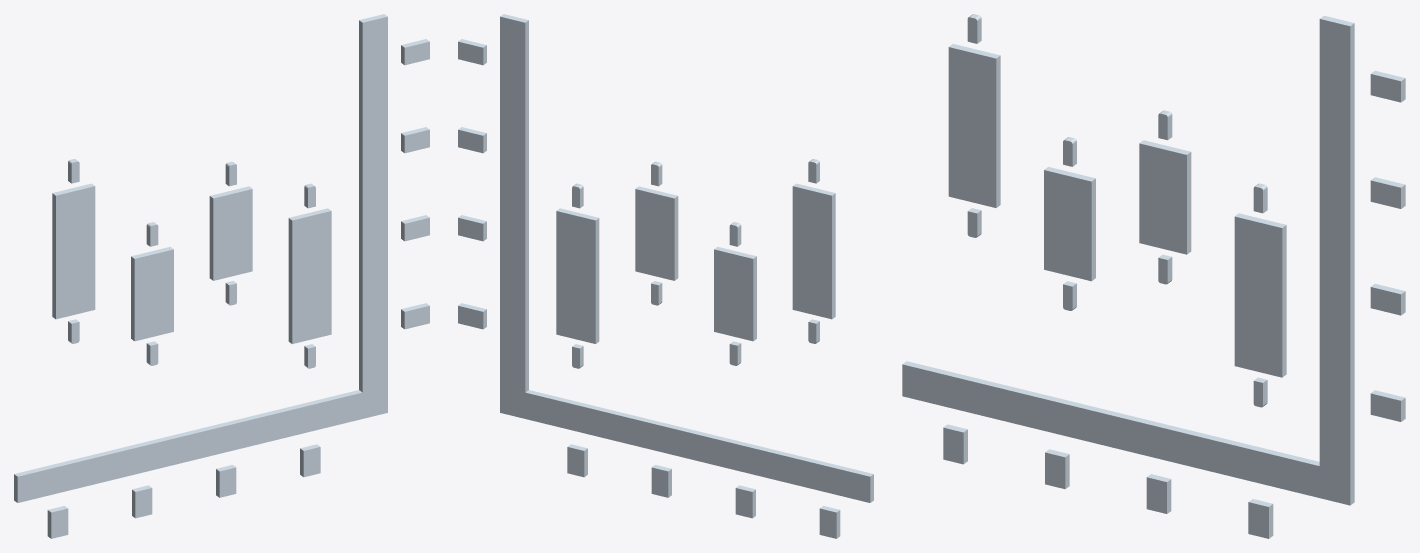
The model's file is Chart_3D_Icon_03.fbx.
3 renders of one model, left to right at view 1: azimuth 30°, elevation 25°; view 2: azimuth 150°, elevation 25°; view 3: azimuth 330°, elevation 25°, orthographic. The views are drawn at different scales.
Parts seen in each view (by area): view 1: Chart_3D_Icon_03; view 2: Chart_3D_Icon_03; view 3: Chart_3D_Icon_03.
Boxes of the visible parts, x1=… form: Chart_3D_Icon_03: x1=14, y1=14, x2=429, y2=538; Chart_3D_Icon_03: x1=458, y1=14, x2=873, y2=538; Chart_3D_Icon_03: x1=902, y1=14, x2=1405, y2=538.
Bounding box in the file's own units: 131 × 134 × 2.
